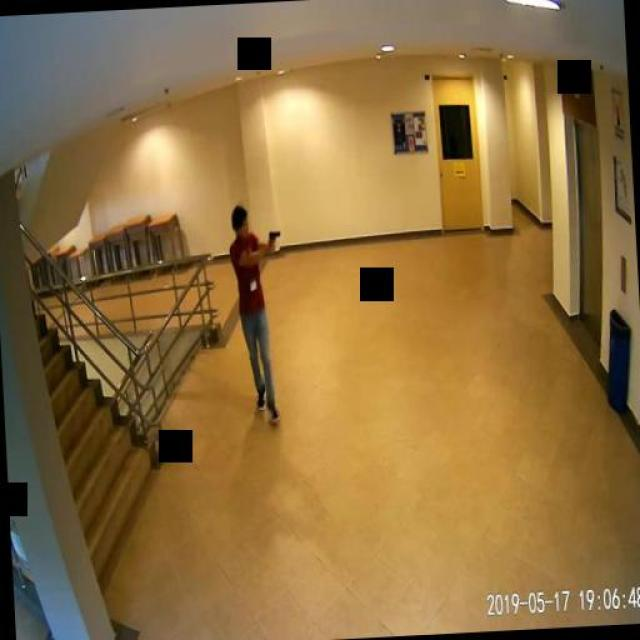gun: (266, 230, 280, 252)
